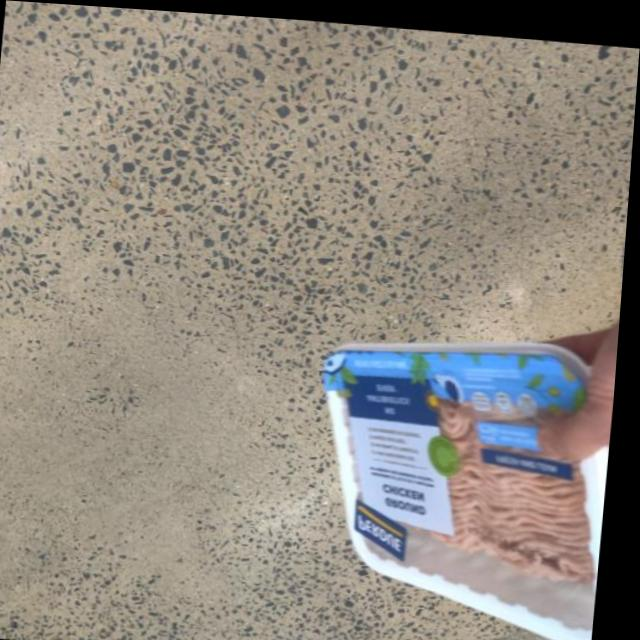Meat: (312, 312, 623, 595)
